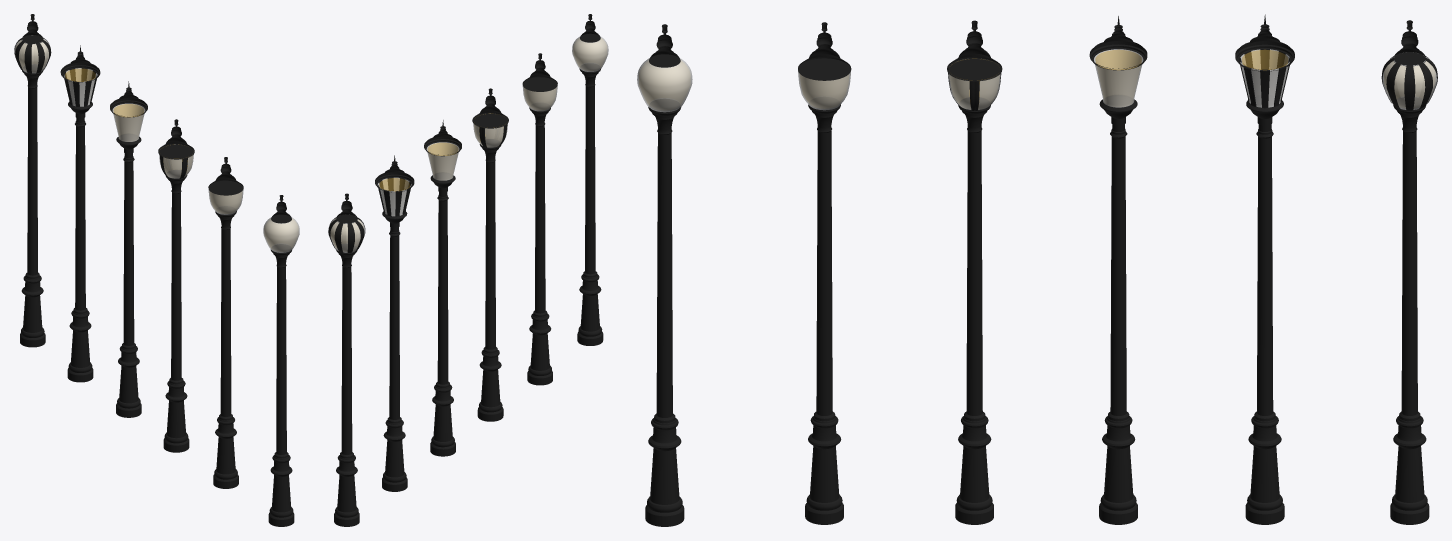
The model's file is uploads_files_4425673_Pack_of_6_street_lamps.fbx.
The picture shows the model from 3 angles, left to right: view 1: azimuth 30°, elevation 25°; view 2: azimuth 150°, elevation 25°; view 3: azimuth 270°, elevation 25°; orthographic projection. The views are drawn at different scales.
Parts seen in each view (by area): view 1: Circle.009, Circle.003, Circle.016, Circle.012, Circle, Circle.006, Circle.013, Circle.001, Circle.015, Circle.002, Circle.019, Circle.021 (+5 smaller); view 2: Circle.009, Circle.003, Circle.016, Circle.012, Circle, Circle.006, Circle.013, Circle.001, Circle.015, Circle.019, Circle.002, Circle.021 (+5 smaller); view 3: Circle.009, Circle.003, Circle.012, Circle.016, Circle.006, Circle, Circle.001, Circle.013, Circle.015, Circle.002, Circle.019, Circle.021 (+4 smaller).
Part boxes in pixels (bbox=[...]): Circle.009: bbox=[158, 119, 194, 452]; Circle.003: bbox=[208, 157, 243, 488]; Circle.016: bbox=[60, 45, 100, 382]; Circle.012: bbox=[110, 81, 147, 417]; Circle: bbox=[268, 195, 294, 526]; Circle.006: bbox=[20, 14, 45, 347]; Circle.013: bbox=[112, 103, 145, 141]; Circle.001: bbox=[263, 217, 299, 252]; Circle.015: bbox=[113, 104, 144, 135]; Circle.002: bbox=[265, 219, 297, 246]; Circle.019: bbox=[63, 68, 97, 106]; Circle.021: bbox=[14, 35, 51, 73]; Circle.009: bbox=[472, 88, 508, 421]; Circle.003: bbox=[522, 53, 557, 385]; Circle.016: bbox=[375, 155, 414, 491]; Circle.012: bbox=[424, 120, 461, 456]; Circle: bbox=[577, 14, 603, 345]; Circle.006: bbox=[334, 193, 359, 526]; Circle.013: bbox=[426, 142, 459, 180]; Circle.001: bbox=[572, 36, 608, 71]; Circle.015: bbox=[427, 142, 458, 174]; Circle.019: bbox=[377, 177, 411, 216]; Circle.002: bbox=[574, 38, 606, 65]; Circle.021: bbox=[328, 214, 365, 252]; Circle.009: bbox=[947, 20, 1002, 524]; Circle.003: bbox=[798, 22, 851, 524]; Circle.012: bbox=[1089, 16, 1147, 524]; Circle.016: bbox=[1235, 14, 1294, 524]; Circle.006: bbox=[1390, 20, 1429, 524]; Circle: bbox=[645, 24, 684, 526]; Circle.001: bbox=[637, 58, 692, 112]; Circle.013: bbox=[1094, 49, 1143, 107]; Circle.015: bbox=[1095, 49, 1141, 98]; Circle.002: bbox=[639, 61, 689, 104]; Circle.019: bbox=[1239, 49, 1290, 108]; Circle.021: bbox=[1381, 52, 1437, 110].
Bounding box in the file's own units: 42.37 × 377 × 544.
